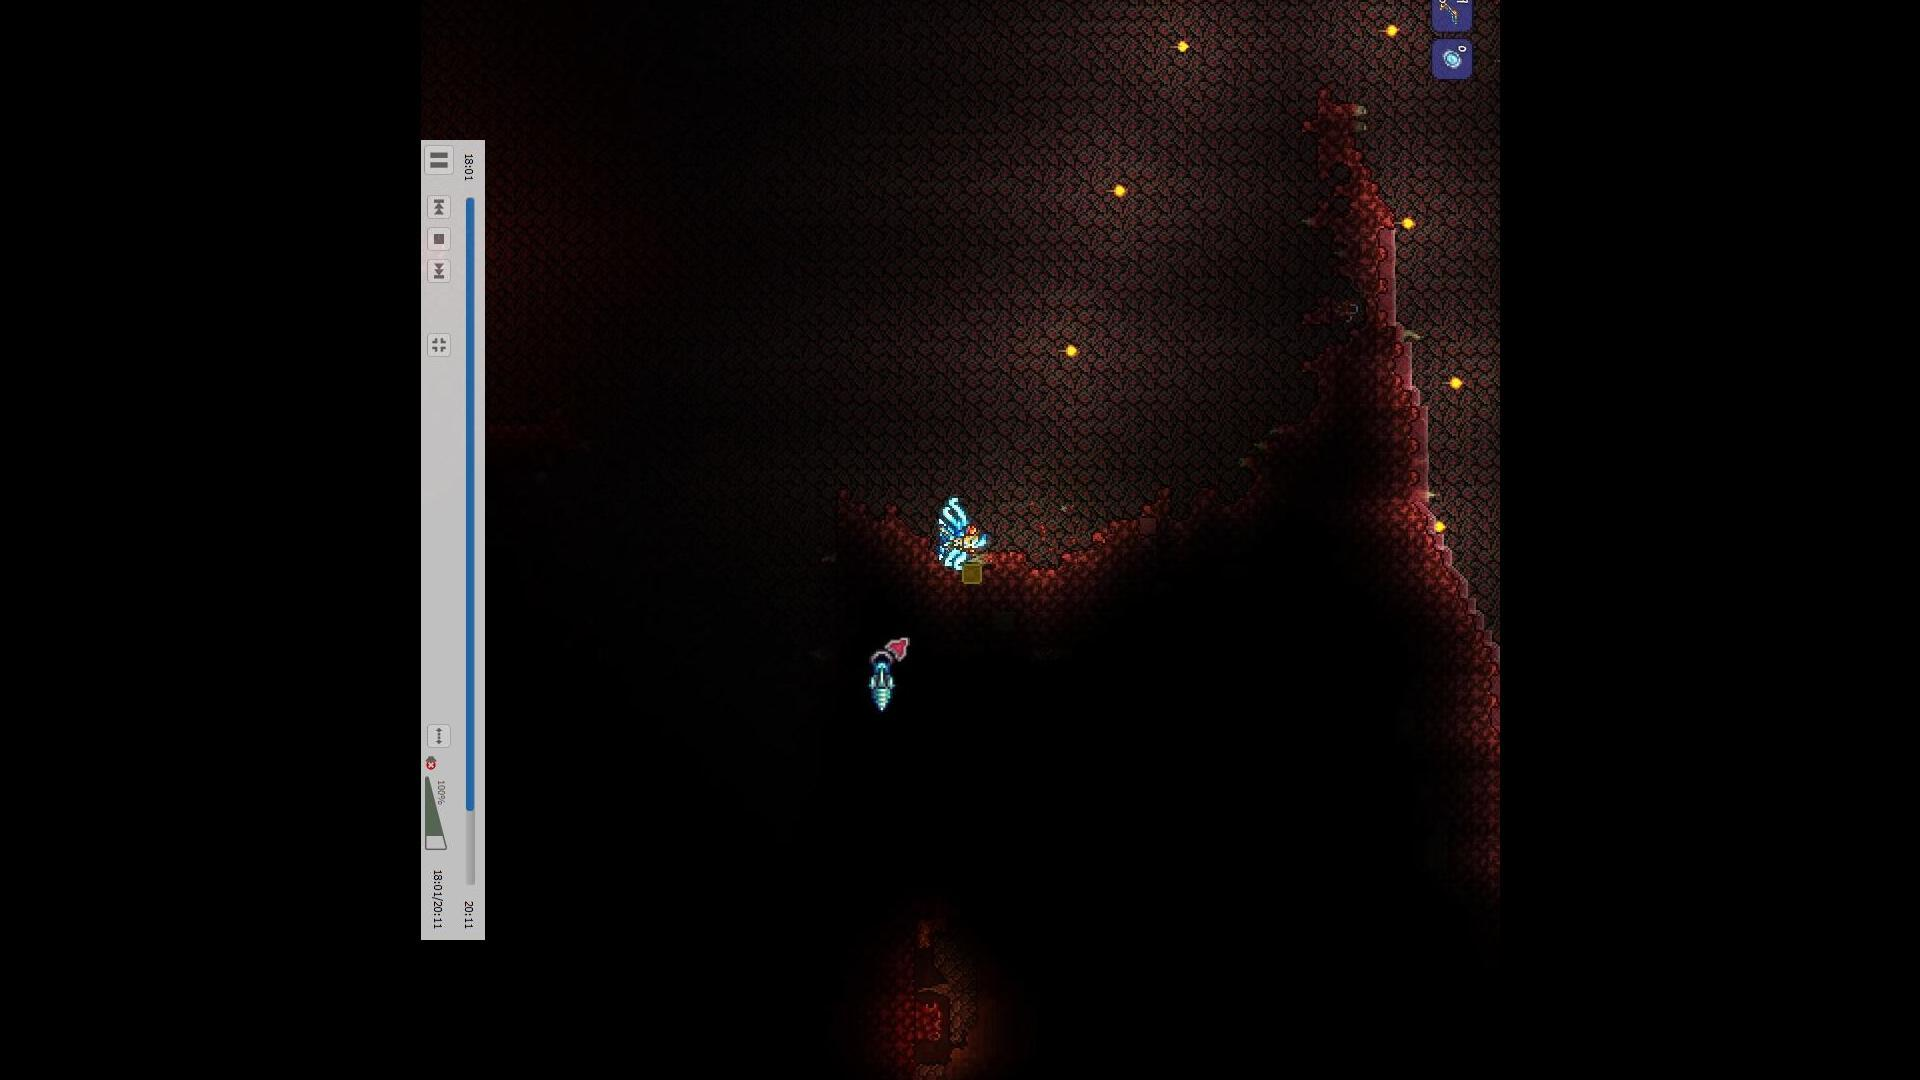mirror: (1435, 45, 1462, 73)
